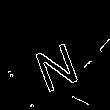N_N: (29, 29, 83, 91)
